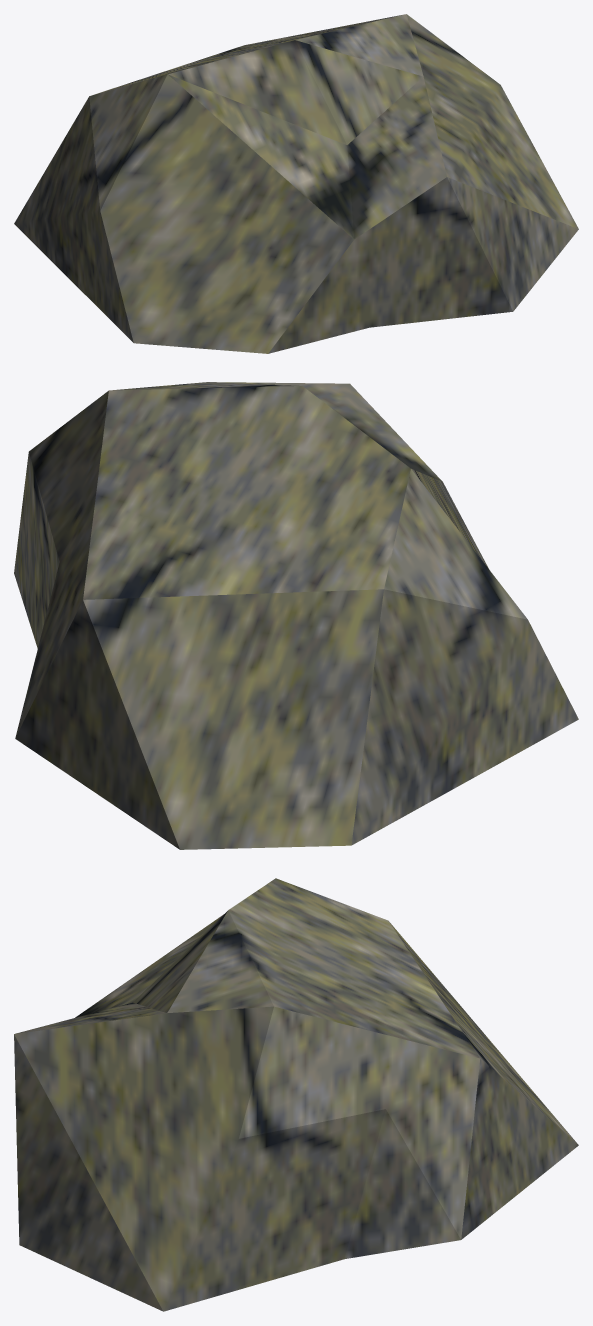
Rendered from rockSmallMossy.fbx.
3 views of the same model, one above another, from view 1: azimuth 30°, elevation 25°; view 2: azimuth 150°, elevation 25°; view 3: azimuth 270°, elevation 25° (orthographic). The views are drawn at different scales.
Visible parts, largest first — view 1: rockSmall; view 2: rockSmall; view 3: rockSmall.
Part boxes in pixels (x1=…): rockSmall: x1=14, y1=14, x2=578, y2=353; rockSmall: x1=14, y1=382, x2=578, y2=849; rockSmall: x1=14, y1=878, x2=578, y2=1311.
Bounding box in the file's own units: 2.17 × 2.11 × 1.11.
1 material, 1 textured.
